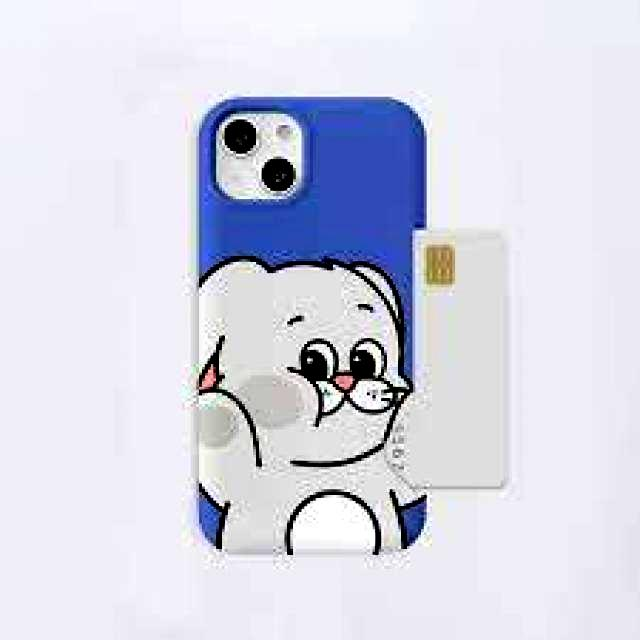lens_back: (217, 117, 269, 161), (260, 155, 300, 201)
phone: (194, 93, 429, 559)
